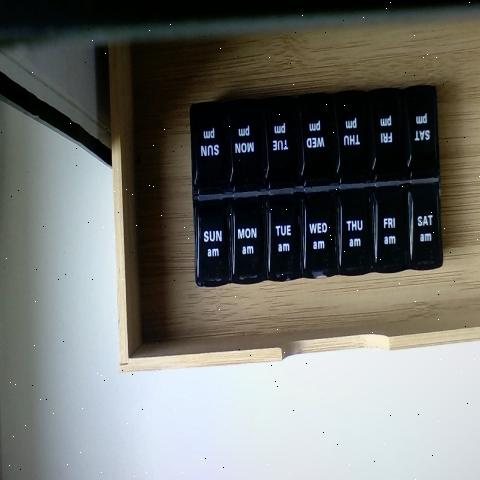FRI-am: (370, 186, 404, 273)
FRI-pm: (369, 96, 404, 180)
MON-am: (227, 197, 264, 279)
MON-pm: (224, 101, 263, 187)
SAT-am: (406, 181, 442, 270)
SAT-pm: (405, 95, 438, 177)
SUN-am: (196, 196, 228, 282)
SUN-pm: (192, 104, 226, 191)
THU-am: (335, 188, 370, 277)
THU-pm: (333, 95, 366, 179)
TUE-am: (266, 197, 298, 276)
TUE-pm: (261, 101, 299, 185)
WED-am: (299, 188, 335, 274)
WED-pm: (298, 97, 333, 182)
